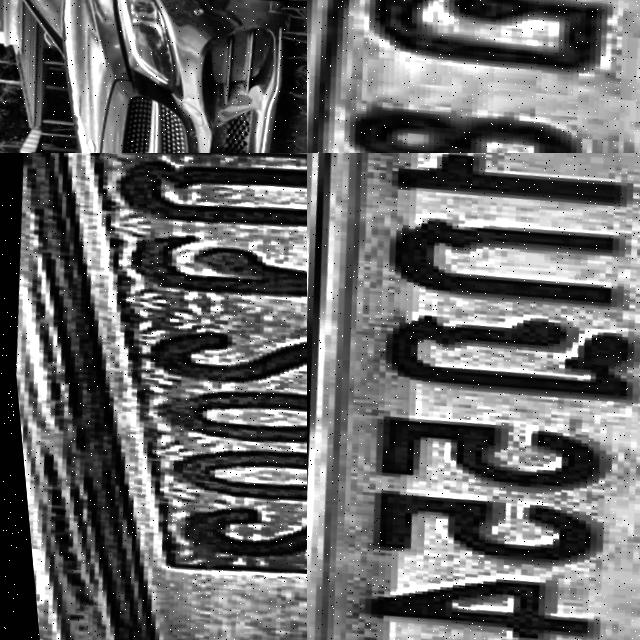license-plate: (307, 153, 640, 640), (0, 153, 307, 640), (307, 0, 640, 153)
